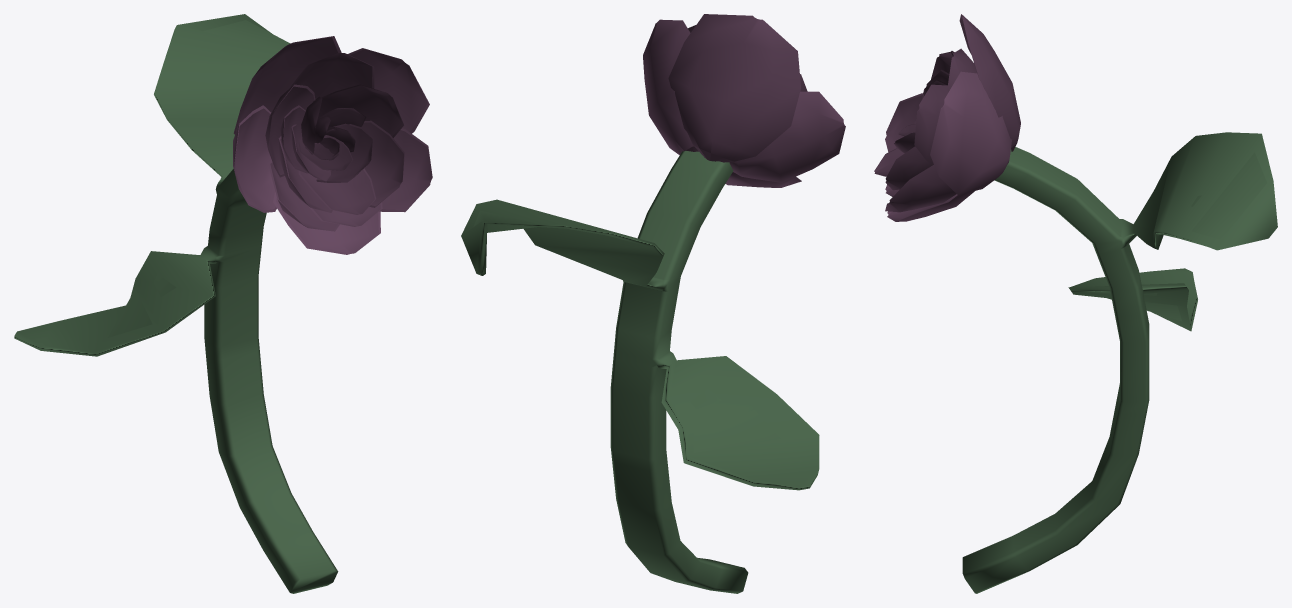
The model's file is lvl2_rose_3.fbx.
3 views of the same model, side by side, from view 1: azimuth 30°, elevation 25°; view 2: azimuth 150°, elevation 25°; view 3: azimuth 270°, elevation 25° (orthographic). The views are drawn at different scales.
Visible parts, largest first — view 1: test_curve1, rose_petal23, rose_petal21, rose_petal22, rose_petal, rose_petal19, rose_petal20, rose_petal1, rose_petal14, rose_petal13, rose_petal17, rose_petal18 (+8 smaller); view 2: test_curve1, rose_petal23, rose_petal21, rose_petal22, rose_petal20; view 3: test_curve1, rose_petal22, rose_petal23, rose_petal19, rose_petal1, rose_petal14, rose_petal15, rose_petal20, rose_petal.
Boxes of the visible parts, bbox=[...] form: test_curve1: bbox=[14, 14, 338, 593]; rose_petal23: bbox=[233, 36, 341, 134]; rose_petal21: bbox=[233, 105, 276, 212]; rose_petal22: bbox=[347, 48, 429, 133]; rose_petal: bbox=[290, 53, 374, 99]; rose_petal19: bbox=[379, 128, 432, 212]; rose_petal20: bbox=[273, 192, 380, 254]; rose_petal1: bbox=[313, 84, 403, 137]; rose_petal14: bbox=[361, 120, 404, 207]; rose_petal13: bbox=[298, 168, 376, 214]; rose_petal17: bbox=[265, 84, 315, 177]; rose_petal18: bbox=[268, 160, 339, 231]; test_curve1: bbox=[461, 151, 819, 593]; rose_petal23: bbox=[668, 14, 800, 162]; rose_petal21: bbox=[729, 91, 845, 182]; rose_petal22: bbox=[643, 19, 698, 154]; rose_petal20: bbox=[725, 172, 801, 187]; test_curve1: bbox=[962, 132, 1277, 593]; rose_petal22: bbox=[930, 71, 1011, 194]; rose_petal23: bbox=[959, 14, 1020, 151]; rose_petal19: bbox=[885, 165, 956, 212]; rose_petal1: bbox=[914, 84, 948, 164]; rose_petal14: bbox=[885, 146, 932, 190]; rose_petal15: bbox=[885, 93, 922, 152]; rose_petal20: bbox=[887, 191, 974, 221]; rose_petal: bbox=[947, 48, 976, 92].
Size of the model in its own units: 1817 by 2968 by 1950.
